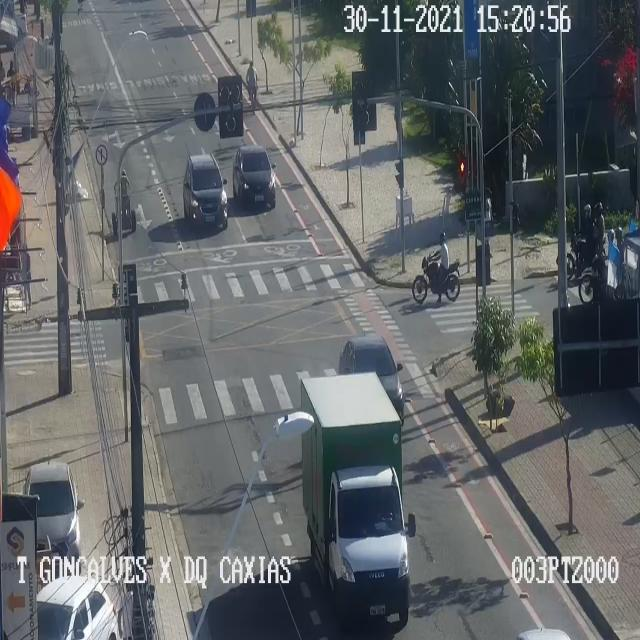Car: (23, 459, 83, 561), (339, 338, 405, 428), (36, 574, 120, 639), (182, 153, 230, 236), (230, 145, 276, 213), (114, 169, 130, 230)
Motorcycle: (578, 226, 628, 302), (412, 231, 460, 304), (566, 201, 605, 277)
Truck: (299, 369, 415, 626)
